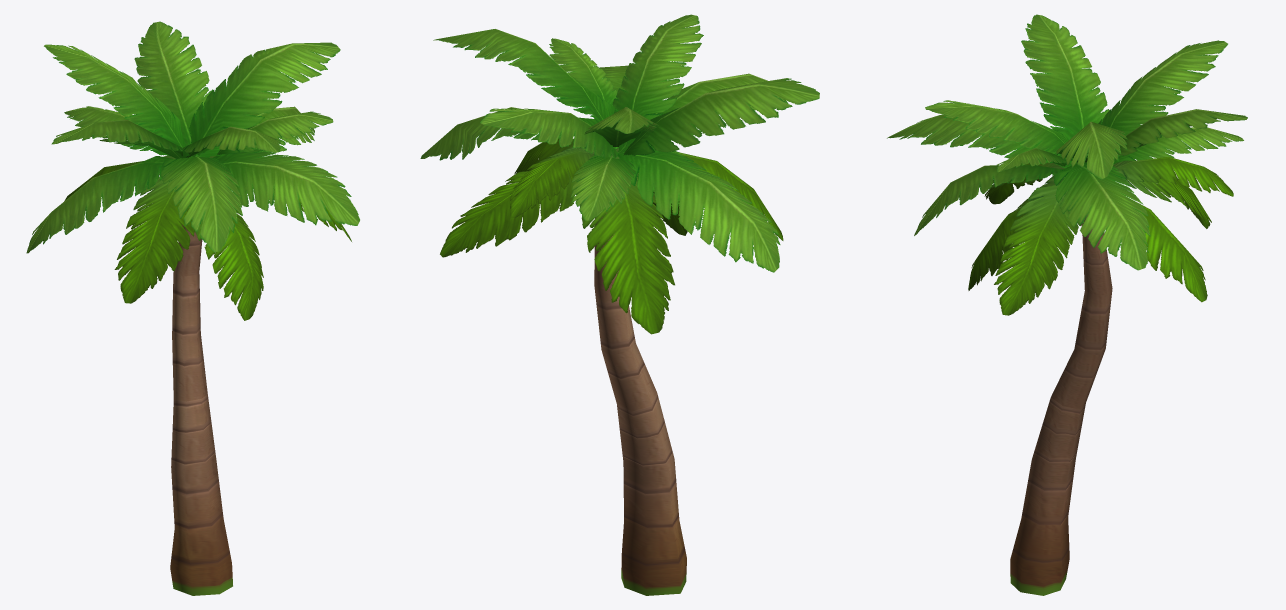
The model's file is wudaohui_yeshu01.FBX.
3 renders of one model, left to right at view 1: azimuth 30°, elevation 25°; view 2: azimuth 150°, elevation 25°; view 3: azimuth 270°, elevation 25°, orthographic. The views are drawn at different scales.
Parts seen in each view (by area): view 1: wudaohui_yeshu01; view 2: wudaohui_yeshu01; view 3: wudaohui_yeshu01.
Boxes of the visible parts, <box> form: wudaohui_yeshu01: <box>26,21,359,595</box>; wudaohui_yeshu01: <box>420,14,819,595</box>; wudaohui_yeshu01: <box>887,14,1247,595</box>.
Bounding box in the file's own units: 1159 × 1606 × 1168.
